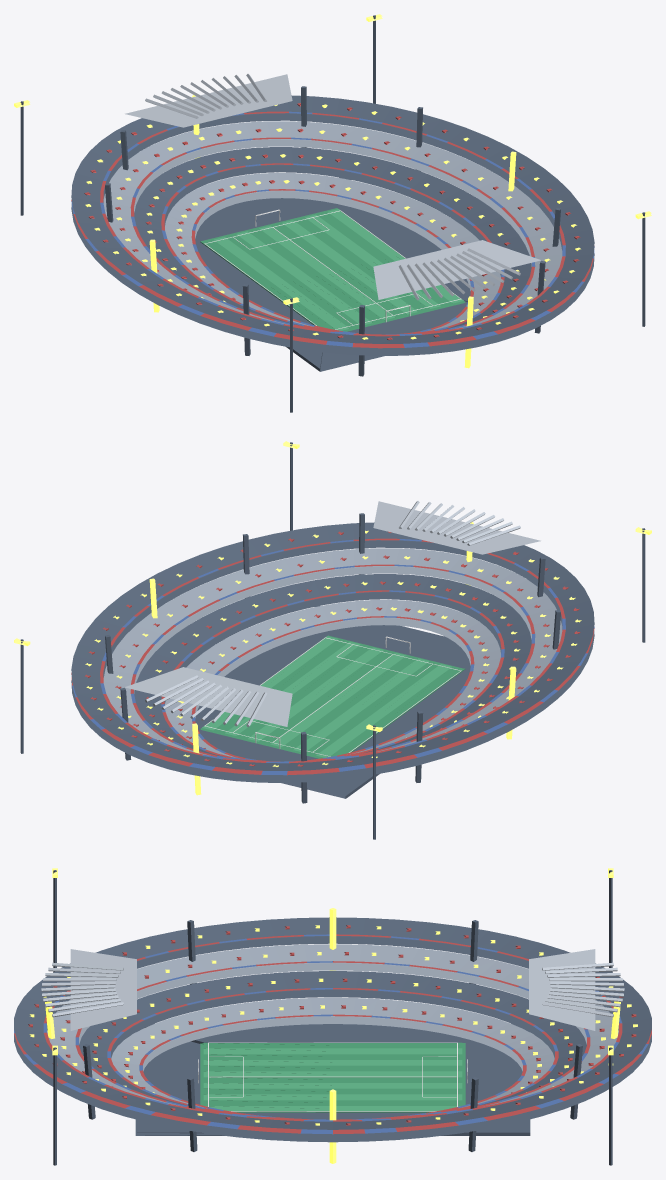
Rendered from camp-nou.glb.
3 renders of one model, top to bottom at view 1: azimuth 30°, elevation 25°; view 2: azimuth 150°, elevation 25°; view 3: azimuth 270°, elevation 25°, orthographic. The views are drawn at different scales.
Parts seen in each view (by area): view 1: Spotify Camp Nou; view 2: Spotify Camp Nou; view 3: Spotify Camp Nou.
Boxes of the visible parts, x1=… form: Spotify Camp Nou: x1=14, y1=14, x2=651, y2=412; Spotify Camp Nou: x1=14, y1=441, x2=651, y2=839; Spotify Camp Nou: x1=14, y1=868, x2=651, y2=1165.
Size of the model in its own units: 73.94 by 19.8 by 93.82.
